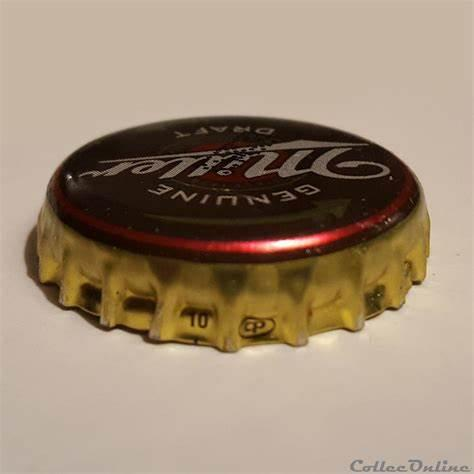metal: (38, 117, 431, 352)
